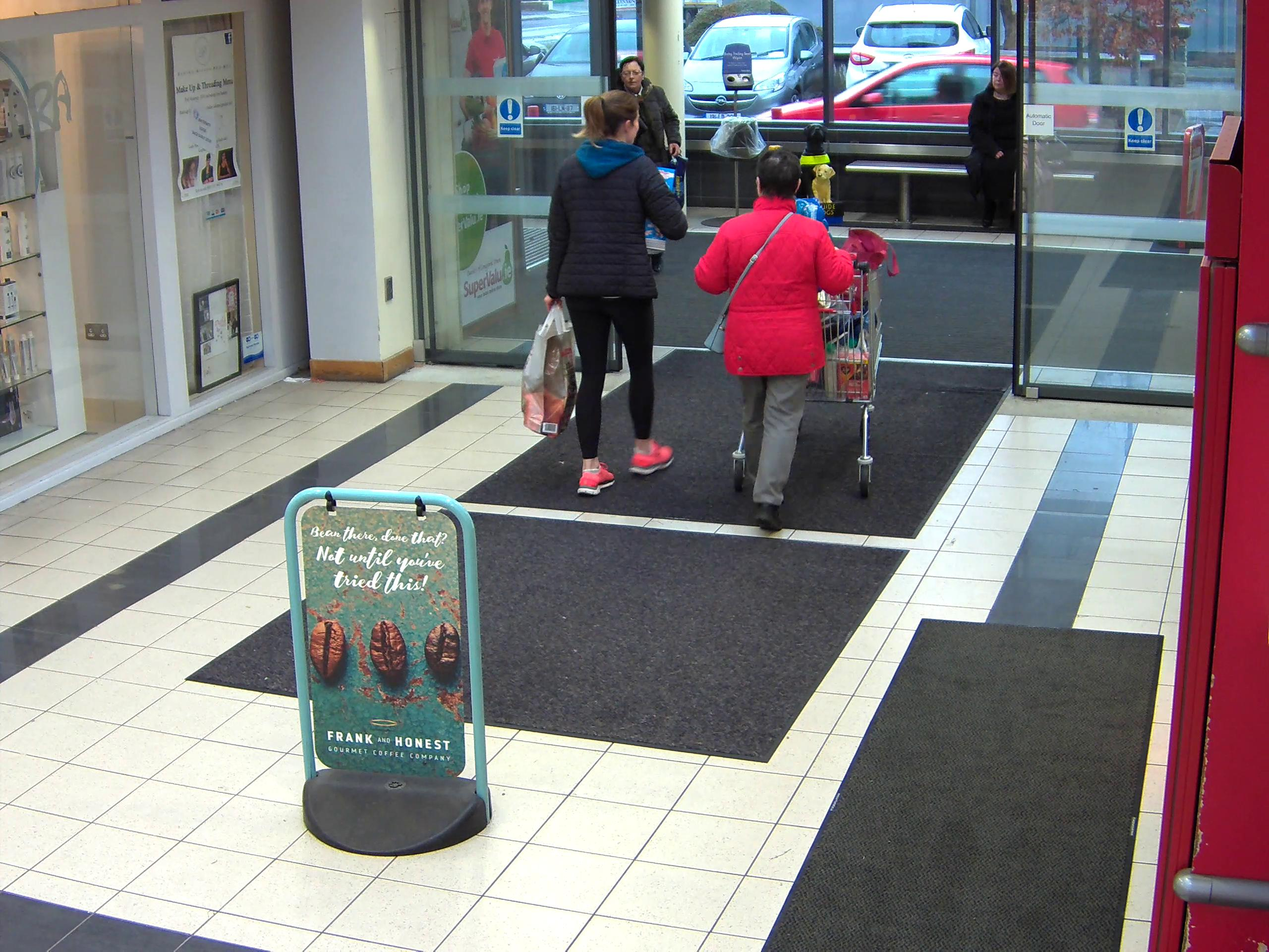backpack-or-handbag: (705, 301, 736, 357)
filled-shopping-bags: (519, 303, 578, 438)
filled-trolly: (728, 240, 884, 501)
person: (695, 142, 857, 527), (547, 90, 690, 496)
person-with-filled-basket-trolly: (695, 142, 885, 529)
person-with-filled-shopping-bag-s-: (519, 89, 687, 495)
